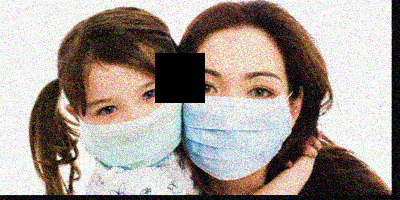with_mask: (183, 66, 289, 182), (75, 77, 185, 165)
